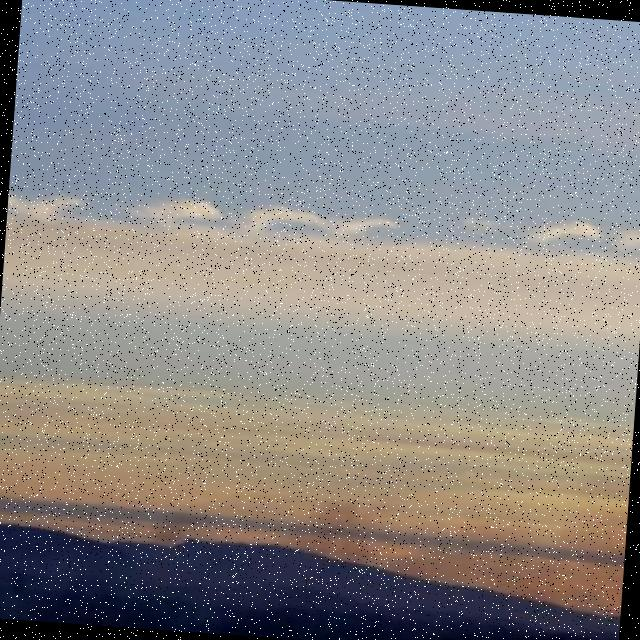Cs: (1, 163, 640, 367)
